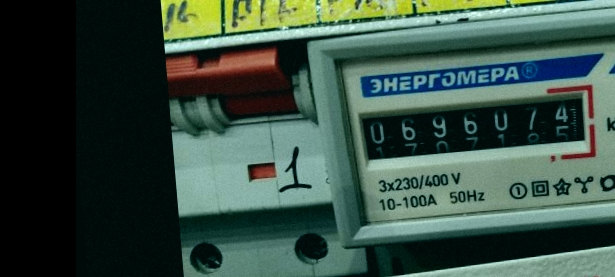0: (366, 118, 387, 145), (492, 105, 510, 132)
4: (553, 99, 571, 124)
5: (555, 123, 571, 142)
6: (398, 114, 419, 142), (460, 110, 479, 135)
7: (521, 103, 541, 131)
9: (428, 112, 449, 139)
screen: (346, 78, 604, 180)
